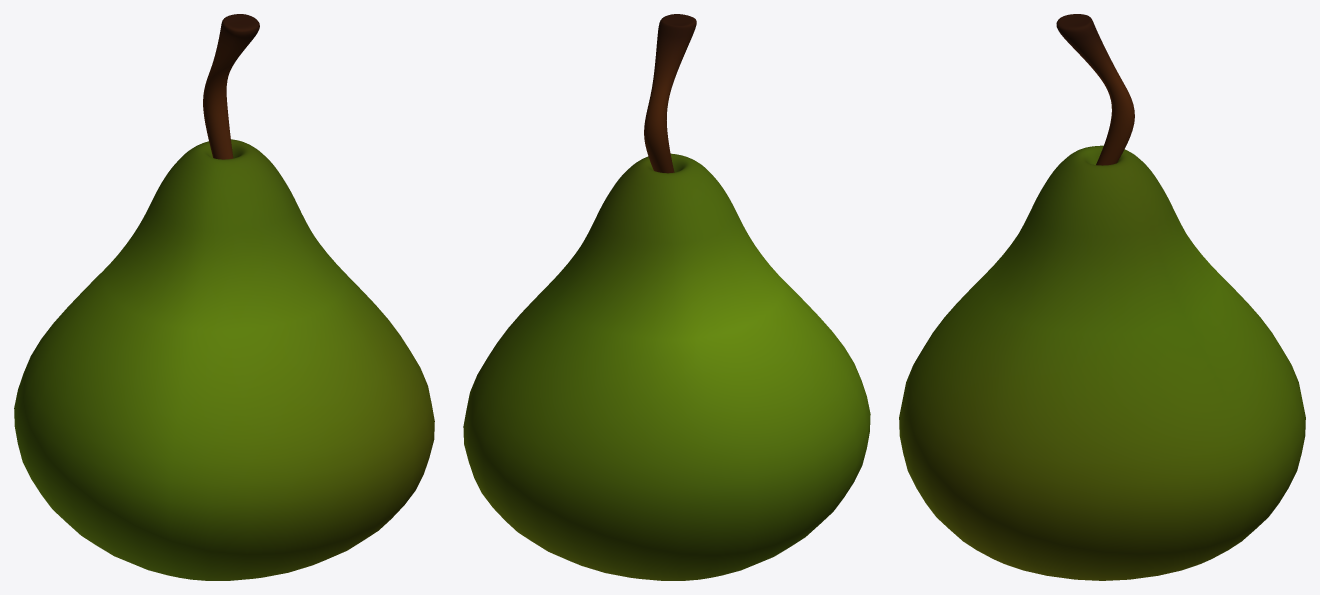
Rendered from Pera.fbx.
The picture shows the model from 3 angles, left to right: view 1: azimuth 30°, elevation 25°; view 2: azimuth 150°, elevation 25°; view 3: azimuth 270°, elevation 25°; orthographic projection. The views are drawn at different scales.
Parts seen in each view (by area): view 1: Pera, Cube; view 2: Pera, Cube; view 3: Pera, Cube.
Part boxes in pixels (box(x1,y1,x2,y2)): Pera: box(14, 139, 434, 580); Cube: box(203, 14, 259, 159); Pera: box(463, 153, 870, 580); Cube: box(644, 14, 696, 173); Pera: box(899, 145, 1305, 580); Cube: box(1056, 14, 1134, 165).
Bounding box in the file's own units: 56.76 × 82.37 × 56.76.
